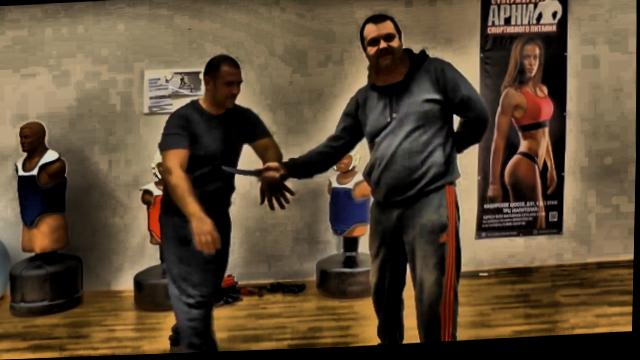knife: (219, 159, 283, 188)
